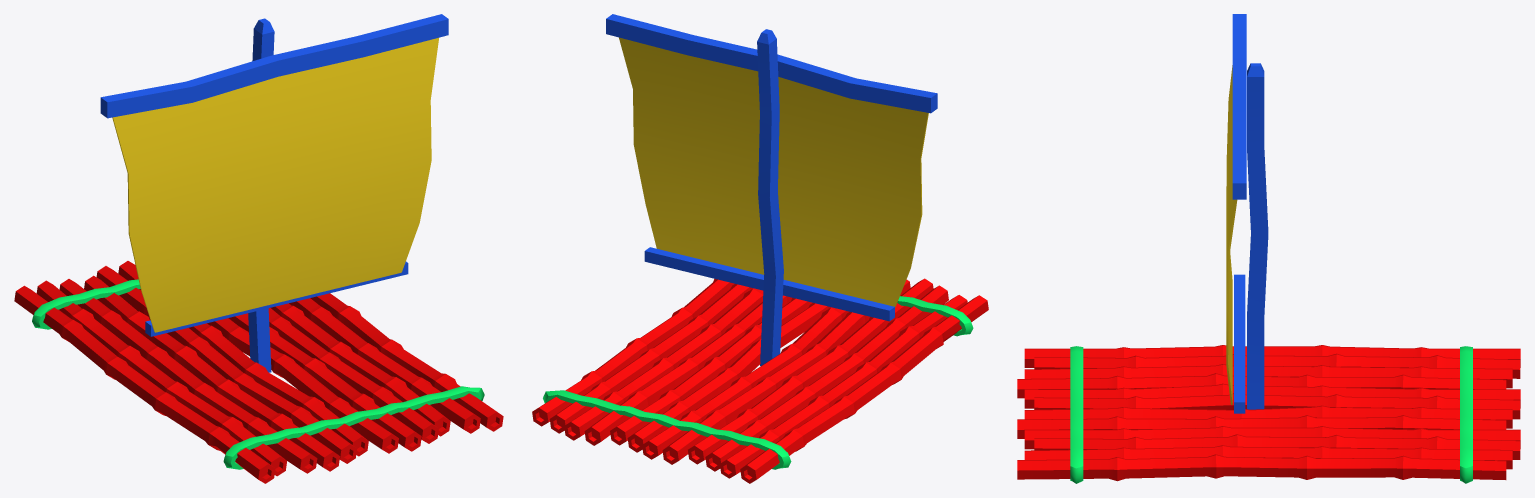
Rendered from raft.fbx.
3 views of the same model, side by side, from view 1: azimuth 30°, elevation 25°; view 2: azimuth 150°, elevation 25°; view 3: azimuth 270°, elevation 25° (orthographic). The views are drawn at different scales.
Visible parts, largest first — view 1: Object001; view 2: Object001; view 3: Object001.
Part boxes in pixels (x1,y1,x2,y2): Object001: (14,14,503,483); Object001: (532,14,988,483); Object001: (1017,14,1520,483).
Size of the model in its own units: 217 by 272 by 216.
